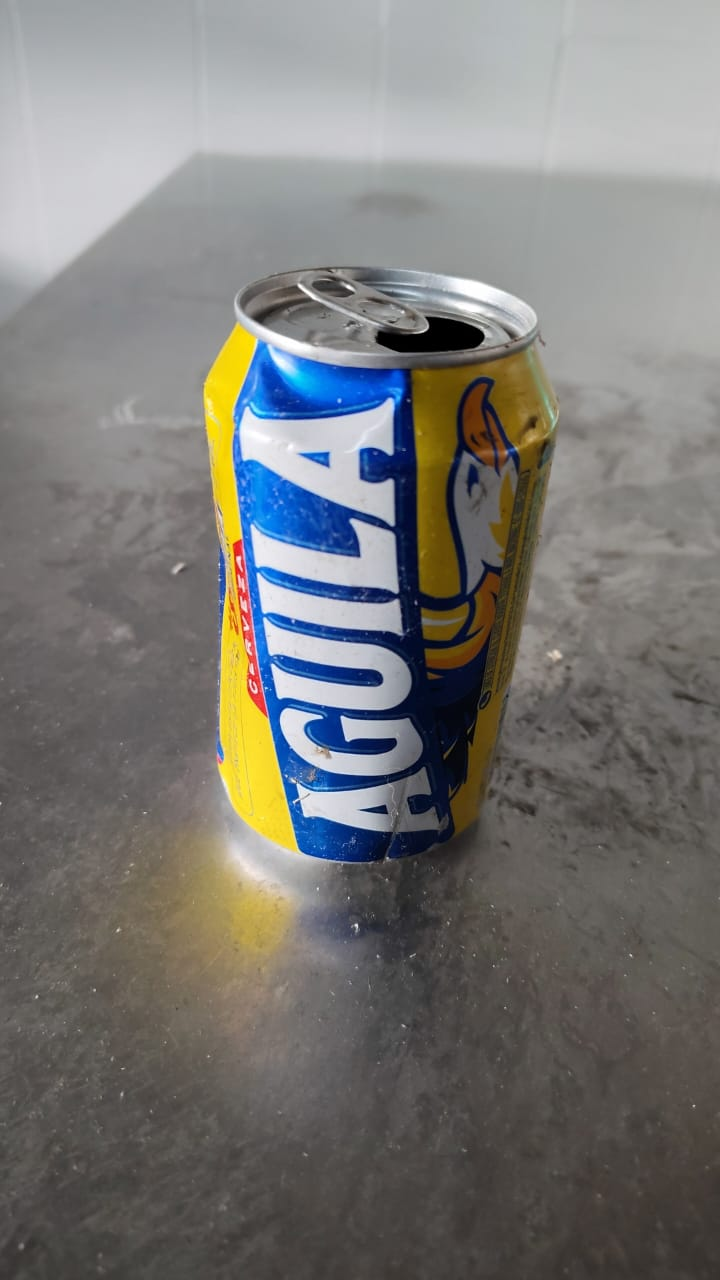Metal: (204, 259, 559, 864)
